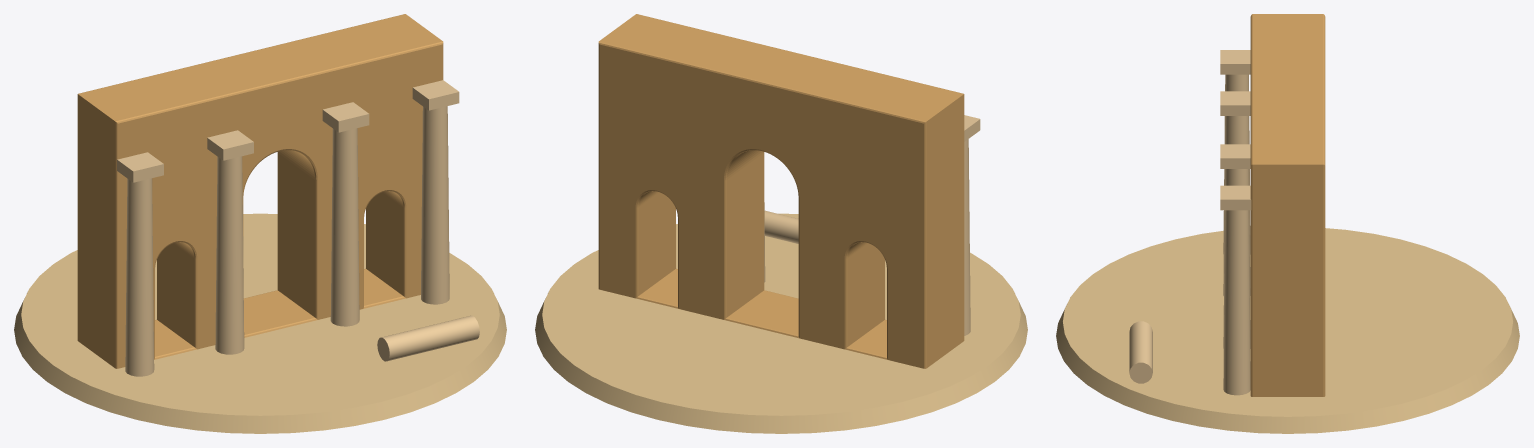
File: timgad.glb
3 renders of one model, left to right at view 1: azimuth 30°, elevation 25°; view 2: azimuth 150°, elevation 25°; view 3: azimuth 270°, elevation 25°, orthographic. The views are drawn at different scales.
Parts seen in each view (by area): view 1: arch, ground, column, object 4; view 2: arch, ground, column, object 4; view 3: ground, arch, column, object 4.
Boxes of the visible parts, x1,y1,x2,y2 form: arch: (77, 14, 443, 368); ground: (14, 213, 506, 433); column: (117, 80, 459, 376); object 4: (377, 315, 479, 361); arch: (598, 14, 964, 368); ground: (535, 213, 1027, 433); column: (764, 115, 980, 335); object 4: (764, 210, 798, 243); ground: (1056, 228, 1519, 433); arch: (1250, 14, 1325, 396); column: (1220, 50, 1251, 395); object 4: (1129, 321, 1152, 383).
Size of the model in its own units: 2.37 by 1.39 by 2.37.
